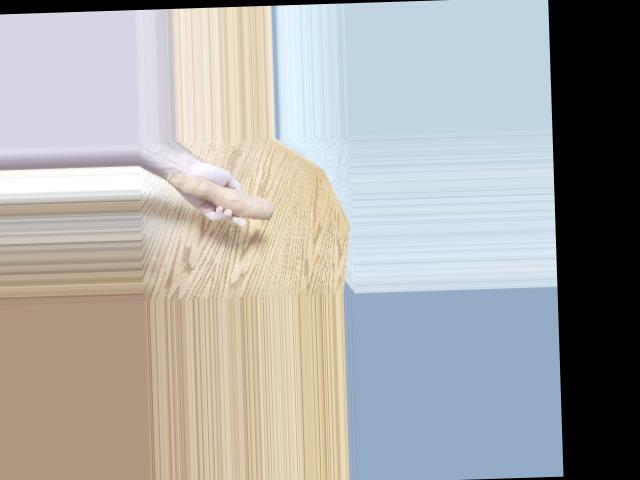sweet_potato: (165, 167, 270, 216)
